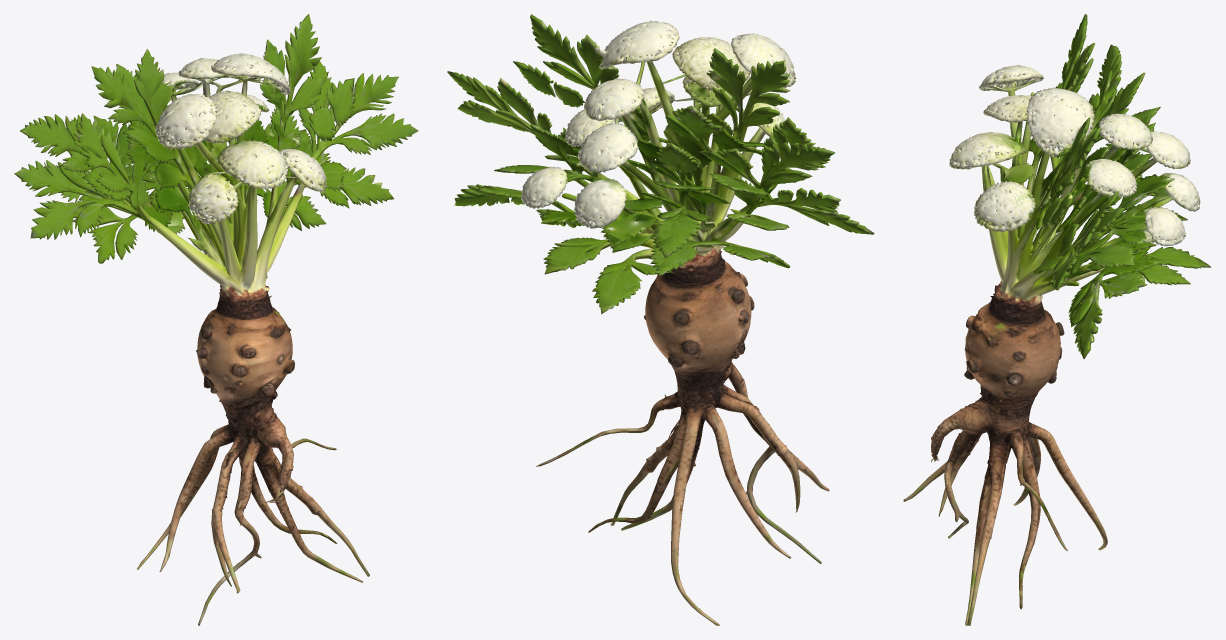
The model's file is gaoben.glb.
3 views of the same model, side by side, from view 1: azimuth 30°, elevation 25°; view 2: azimuth 150°, elevation 25°; view 3: azimuth 270°, elevation 25° (orthographic). The views are drawn at different scales.
Parts seen in each view (by area): view 1: node_0; view 2: node_0; view 3: node_0.
Part boxes in pixels (x1,y1,x2,y2): node_0: (14, 14, 418, 625); node_0: (447, 14, 874, 625); node_0: (903, 14, 1210, 625).
Bounding box in the file's own units: 0.8251 × 1.08 × 0.5875.
1 material, 1 textured.
